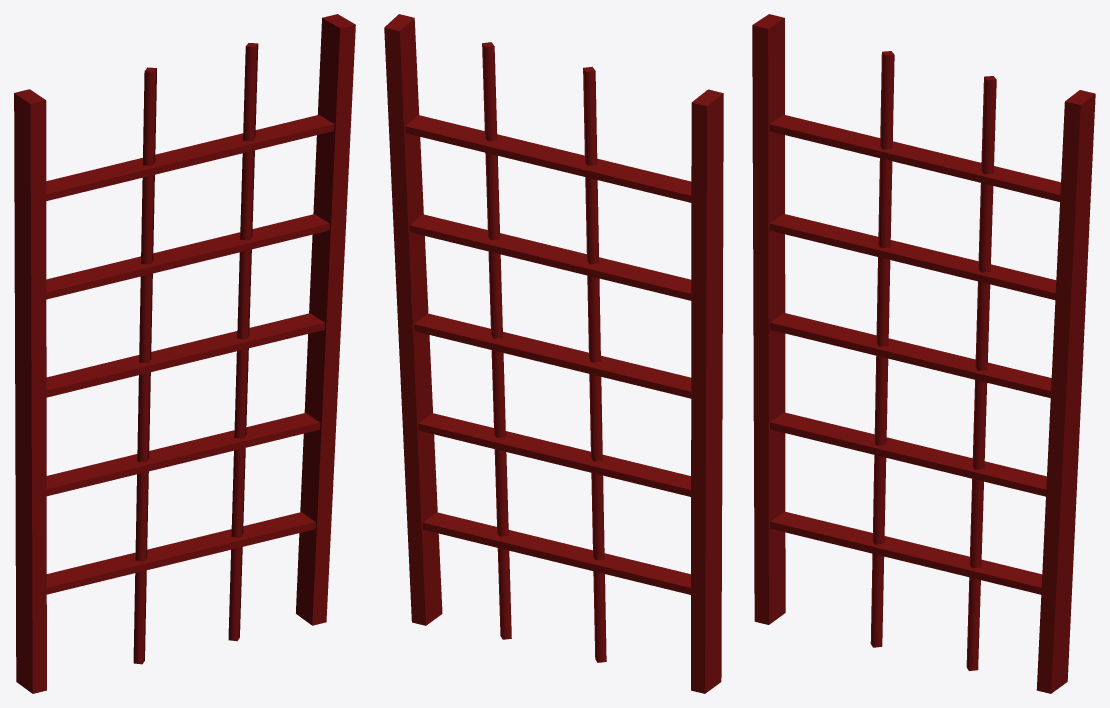
File: SM_Jail_Bars_Gate.fbx
3 views of the same model, side by side, from view 1: azimuth 30°, elevation 25°; view 2: azimuth 150°, elevation 25°; view 3: azimuth 330°, elevation 25° (orthographic).
Visible parts, largest first — view 1: SM_Jail_Bars_Gate; view 2: SM_Jail_Bars_Gate; view 3: SM_Jail_Bars_Gate.
Part boxes in pixels (box(x1,y1,x2,y2)): SM_Jail_Bars_Gate: box(14, 14, 355, 693); SM_Jail_Bars_Gate: box(384, 14, 723, 693); SM_Jail_Bars_Gate: box(752, 14, 1095, 693).
Bounding box in the file's own units: 4.89 × 8.49 × 0.4299.
